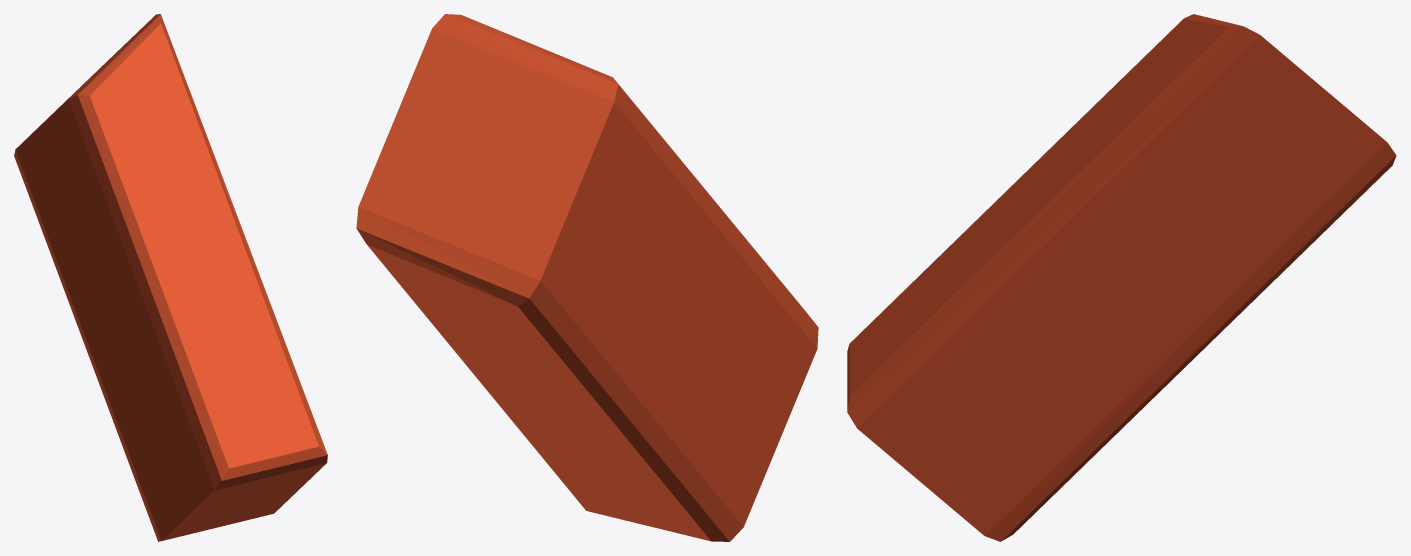
3 views of the same model, side by side, from view 1: azimuth 30°, elevation 25°; view 2: azimuth 150°, elevation 25°; view 3: azimuth 270°, elevation 25° (orthographic). The views are drawn at different scales.
Visible parts, largest first — view 1: letter; view 2: letter; view 3: letter.
Boxes of the visible parts, left/top/right/bottom form: letter: left=14, top=14, right=327, bottom=541; letter: left=356, top=14, right=818, bottom=541; letter: left=847, top=14, right=1396, bottom=541.
Size of the model in its own units: 0.251 by 0.9136 by 0.8837.
